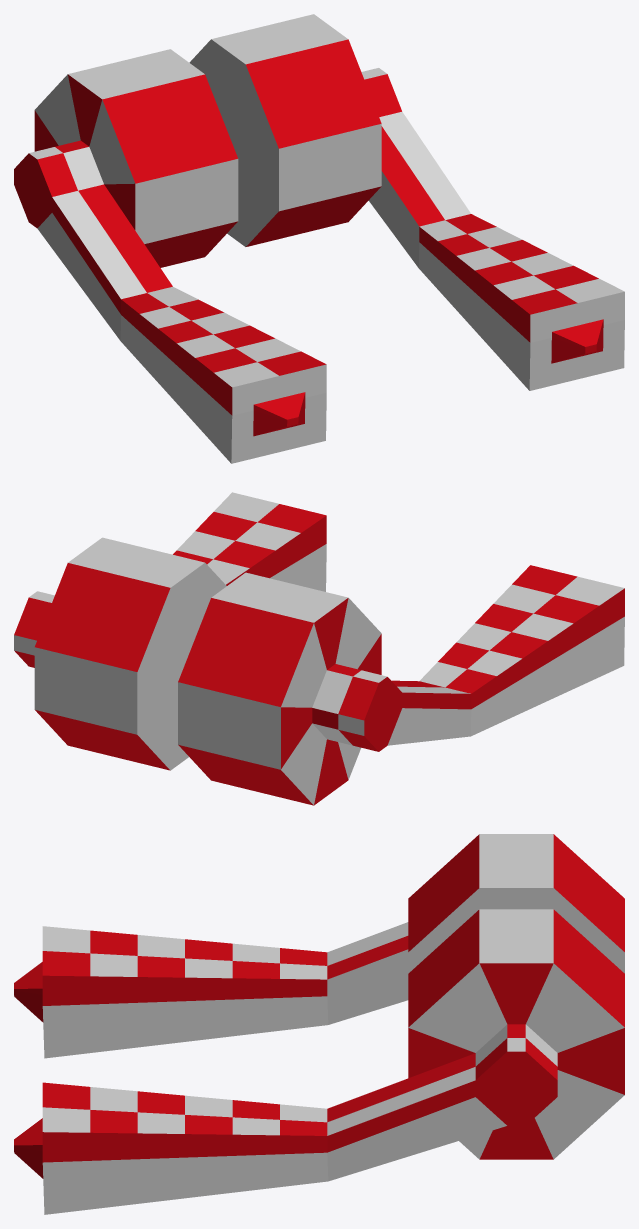
Rendered from ship0.fbx.
3 renders of one model, top to bottom at view 1: azimuth 30°, elevation 25°; view 2: azimuth 150°, elevation 25°; view 3: azimuth 270°, elevation 25°, orthographic. The views are drawn at different scales.
Visible parts, largest first — view 1: ship0; view 2: ship0; view 3: ship0.
Part boxes in pixels (left/top/right/bottom): ship0: left=14, top=14, right=624, bottom=463; ship0: left=14, top=492, right=624, bottom=805; ship0: left=14, top=834, right=624, bottom=1214.
Bounding box in the file's own units: 237 × 114 × 297.
